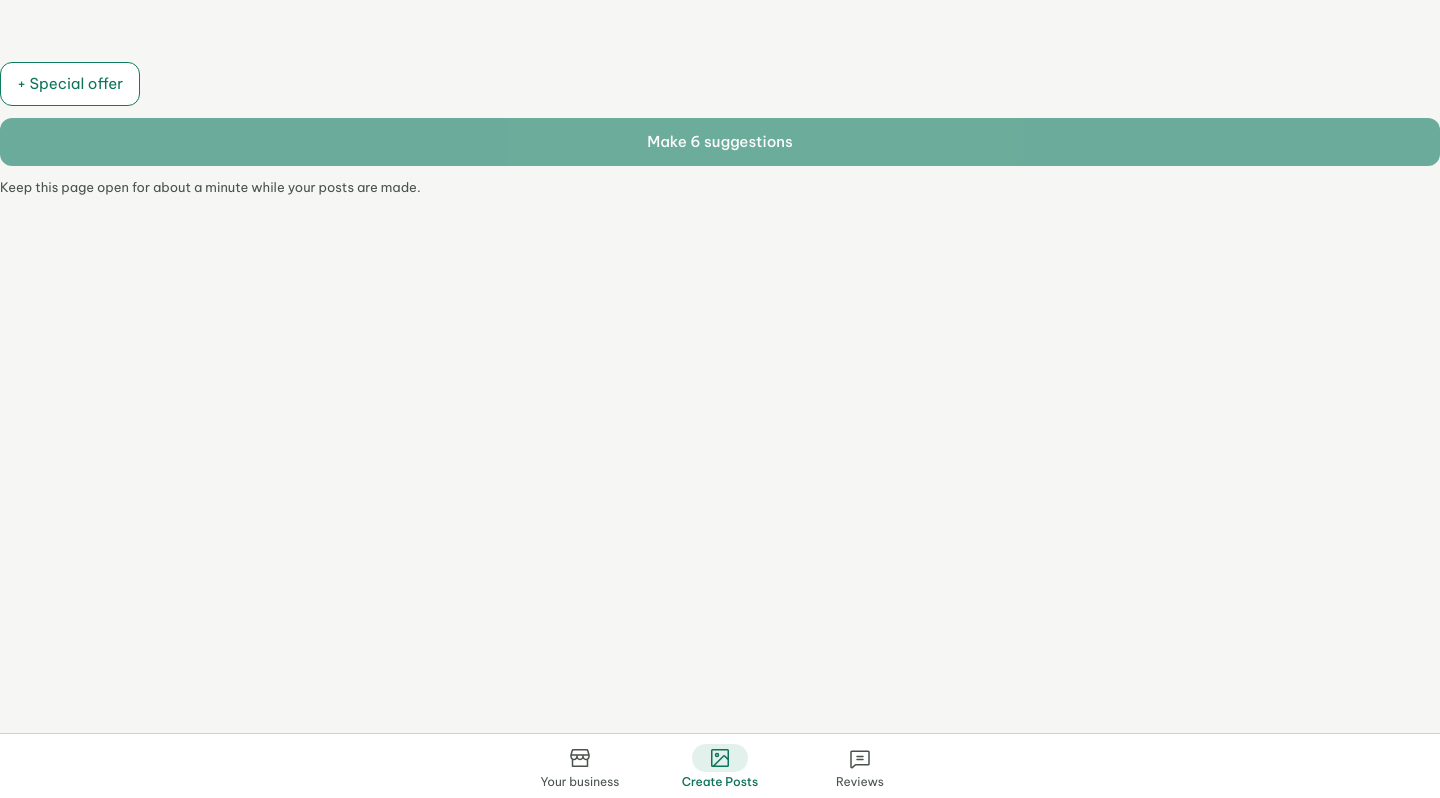
Test case: BrandHome › re-read counts an edit to a field without a source
Press the mouse on the tab "Your business" at (580, 766), box [510,734,650,797]
(page scrolled)
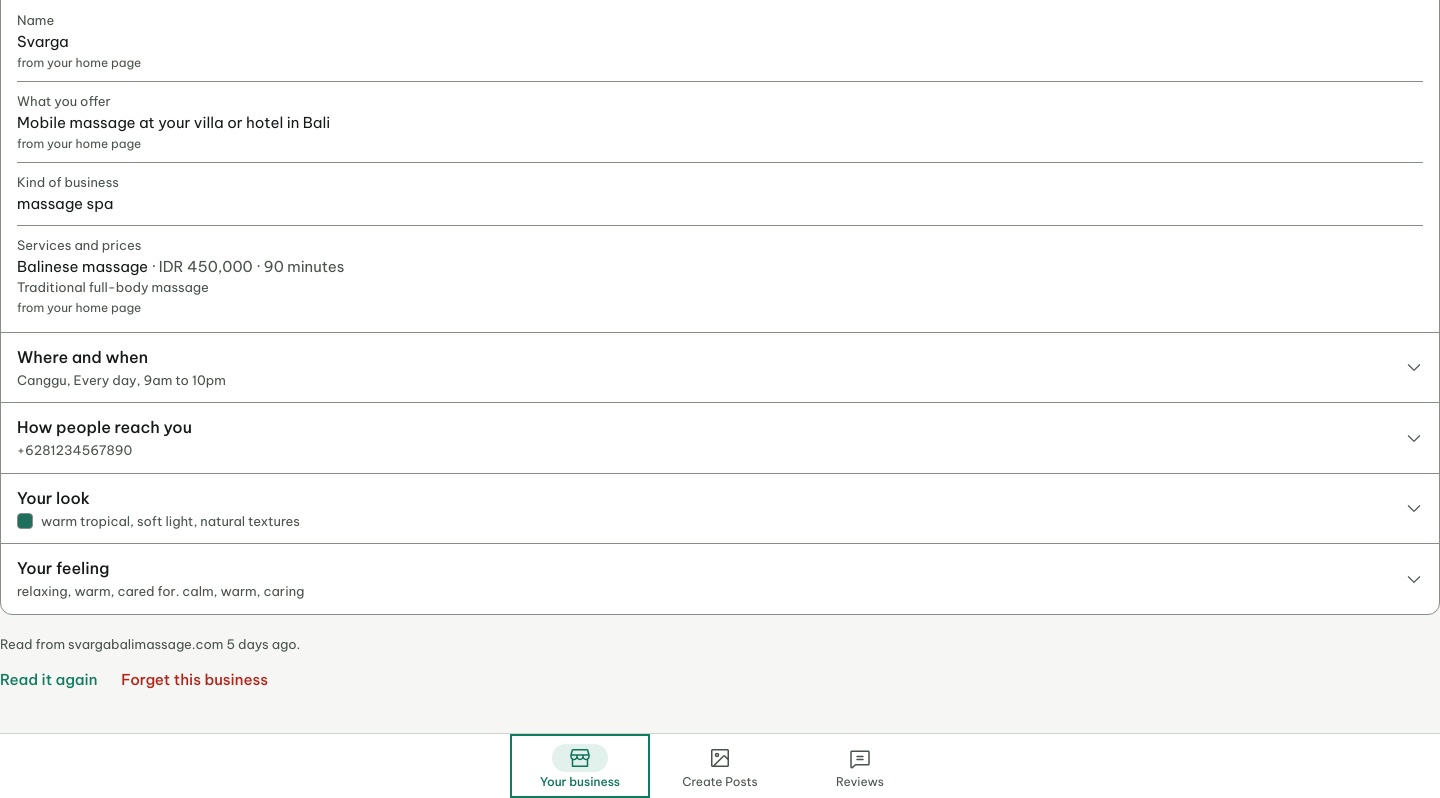
Expected: the tab "Your business" is selected, [510,734,650,797]
Click the button "Read it again". click: (49, 680)
box: [0,658,97,702]
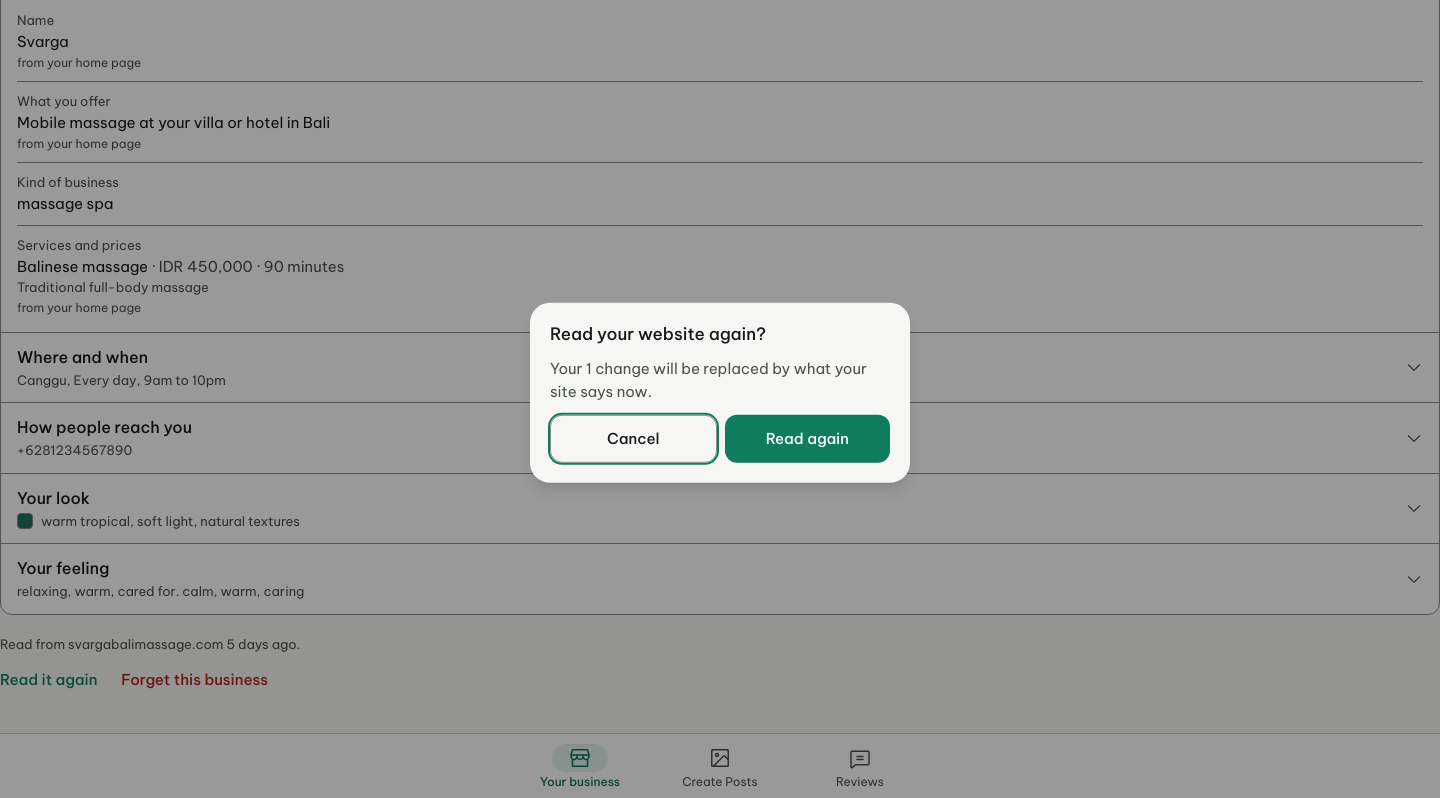
Expected: the text "Your 1 change will be replaced by what your site says now." is shown, [550,358,890,403]
